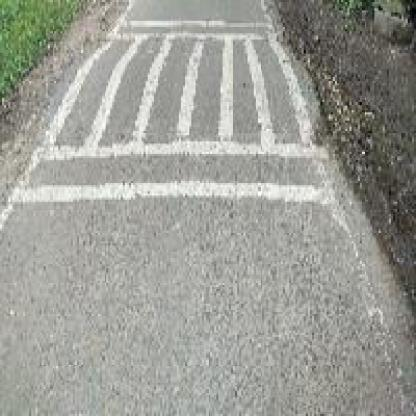Speed Bump: (14, 19, 302, 198)
